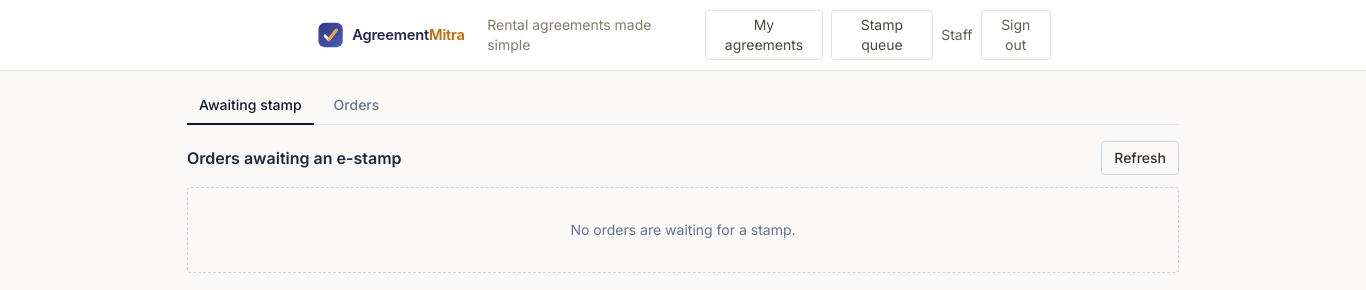
App header navigation from the staff console › opens My agreements from /staff
This screenshot has width=1366, height=290.
Click the button with test id "nav-my-agreements". click: x=764, y=35
box: top-left (705, 10), bottom-right (822, 60)
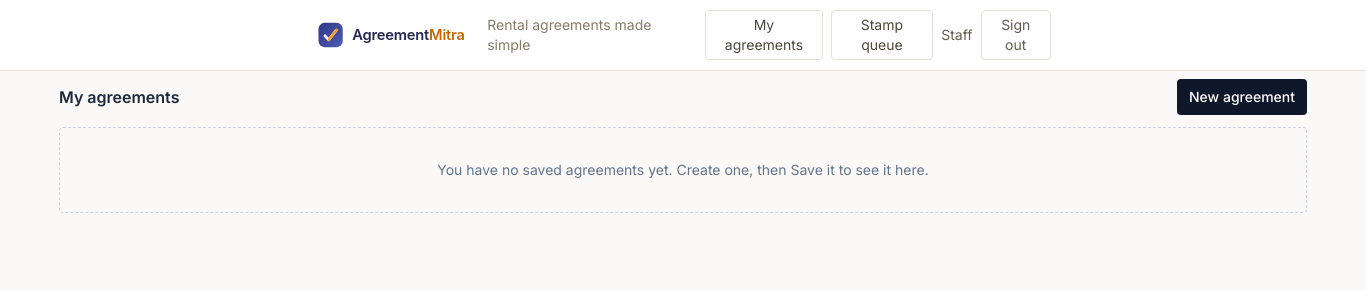
Now the element with test id "my-agreements" is shown, box top-left (59, 79), bottom-right (1307, 213)
